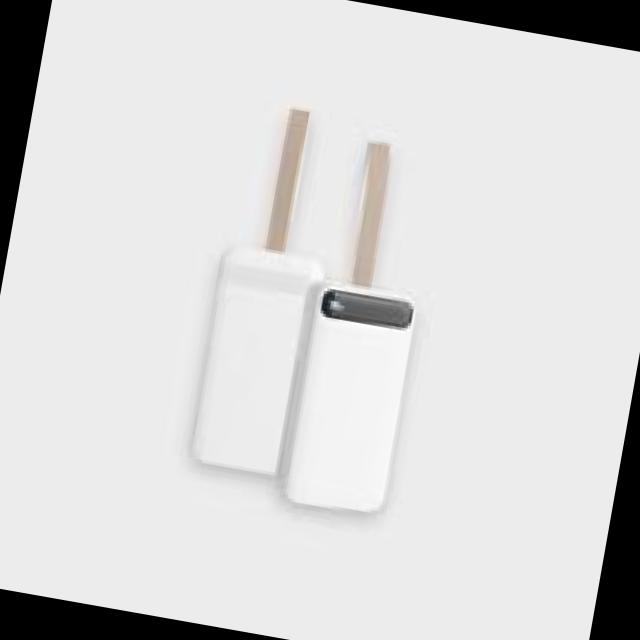power_bank: (265, 274, 424, 524), (180, 236, 324, 485)
